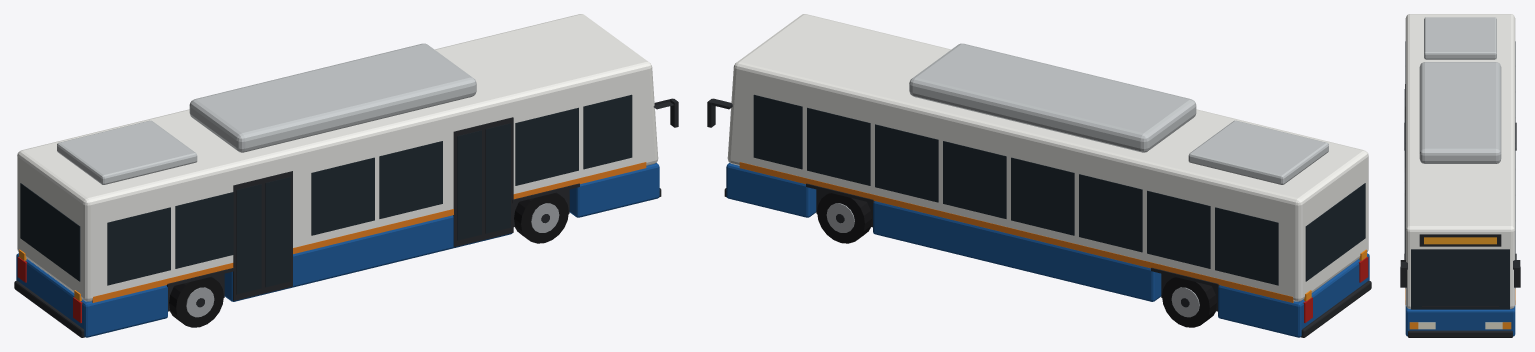
File: bus.glb
3 views of the same model, side by side, from view 1: azimuth 30°, elevation 25°; view 2: azimuth 150°, elevation 25°; view 3: azimuth 270°, elevation 25° (orthographic). The views are drawn at different scales.
Parts seen in each view (by area): view 1: JanmargBus; view 2: JanmargBus; view 3: JanmargBus.
Part boxes in pixels (left/top/right/bottom): JanmargBus: left=14, top=14, right=678, bottom=337; JanmargBus: left=707, top=14, right=1371, bottom=337; JanmargBus: left=1400, top=14, right=1520, bottom=337.
Size of the model in its own units: 12.36 by 3.44 by 2.81.
